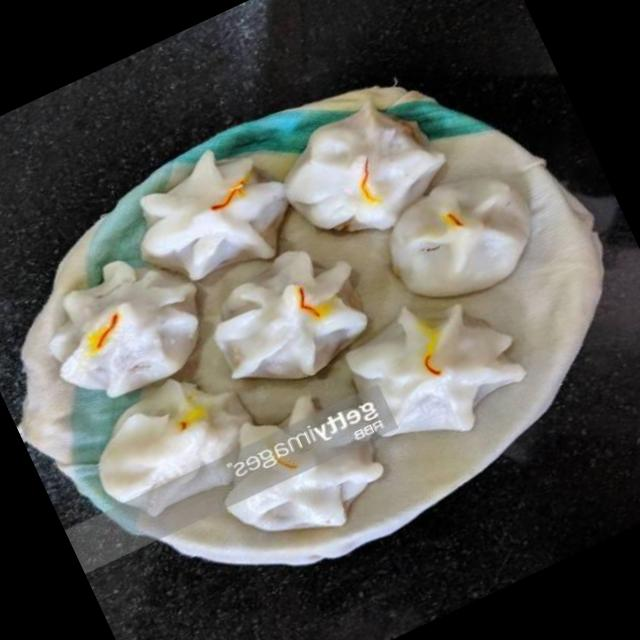modak: (260, 67, 477, 266), (24, 234, 238, 424), (190, 225, 392, 412), (116, 127, 313, 306), (342, 283, 535, 461), (82, 368, 272, 537), (206, 384, 392, 550), (367, 161, 550, 326)
